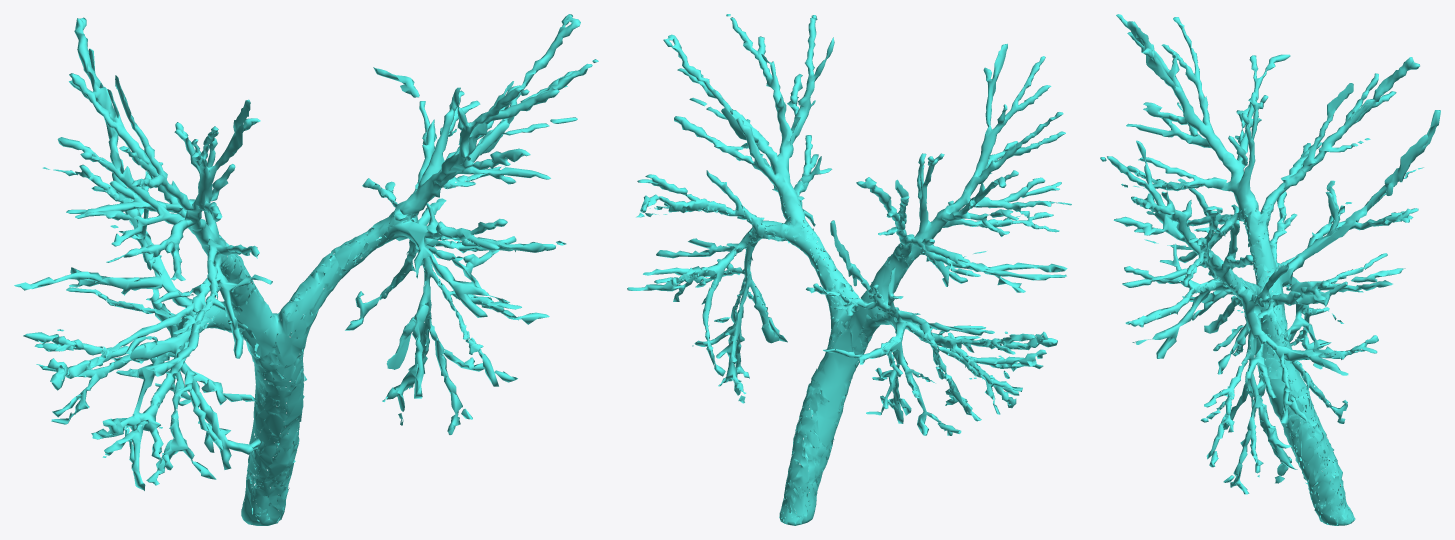
File: trachea.fbx
3 renders of one model, left to right at view 1: azimuth 30°, elevation 25°; view 2: azimuth 150°, elevation 25°; view 3: azimuth 270°, elevation 25°, orthographic. The views are drawn at different scales.
Visible parts, largest first — view 1: Object_2, Object_3; view 2: Object_2, Object_3; view 3: Object_2, Object_3.
Part boxes in pixels (bbox=[...]): Object_2: bbox=[34, 14, 598, 525]; Object_3: bbox=[14, 128, 566, 518]; Object_2: bbox=[637, 14, 1071, 525]; Object_3: bbox=[627, 153, 1067, 522]; Object_2: bbox=[1100, 14, 1440, 525]; Object_3: bbox=[1121, 173, 1413, 523].
Bounding box in the file's own units: 8026 × 8170 × 5690.
